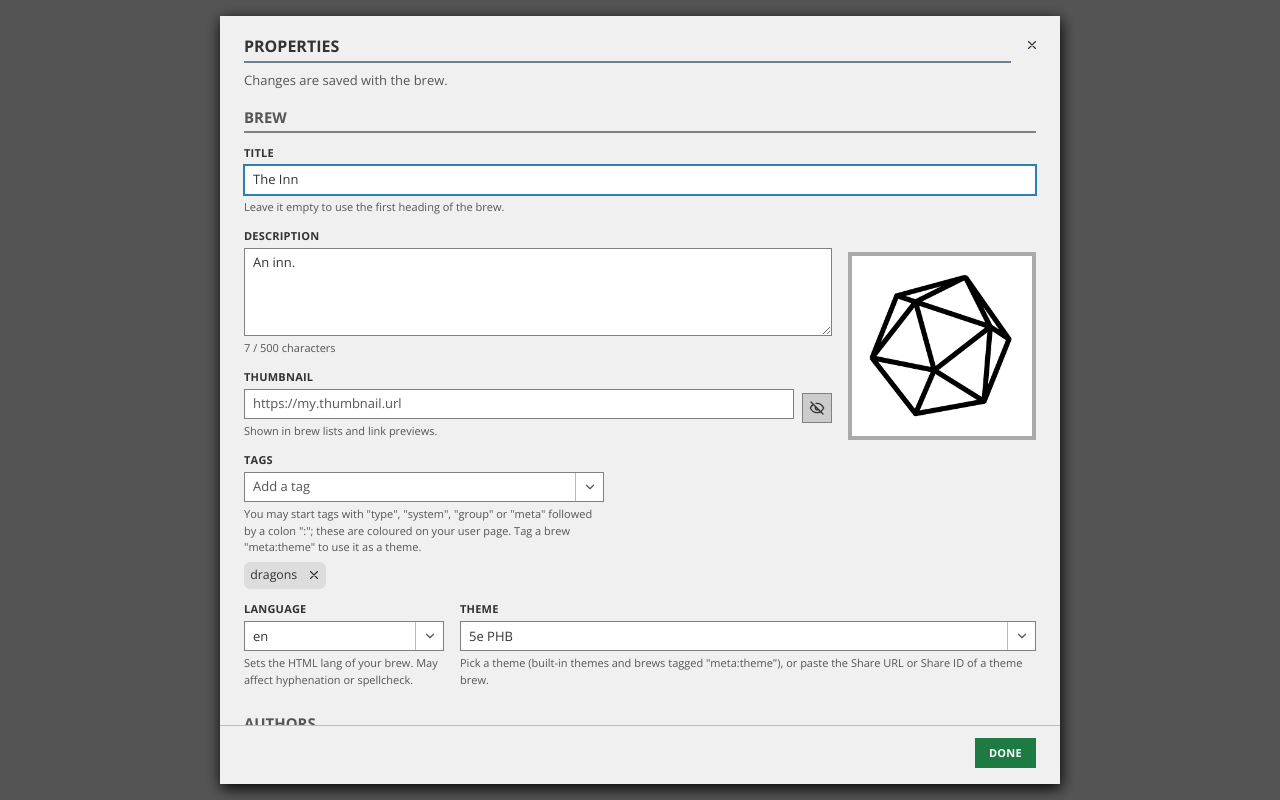
Test: MetadataDialog: every field reports its save payload › theme: the list has static themes and the user themes from the API, grouped
The width and height of the screenshot is (1280, 800).
Expected: the dropdown labelled "Theme" holds "5e PHB", 461,622 -> 1007,650
Step 1. Click the 3rd button named "Show options" → (1021, 636), box 1007,622 -> 1035,650
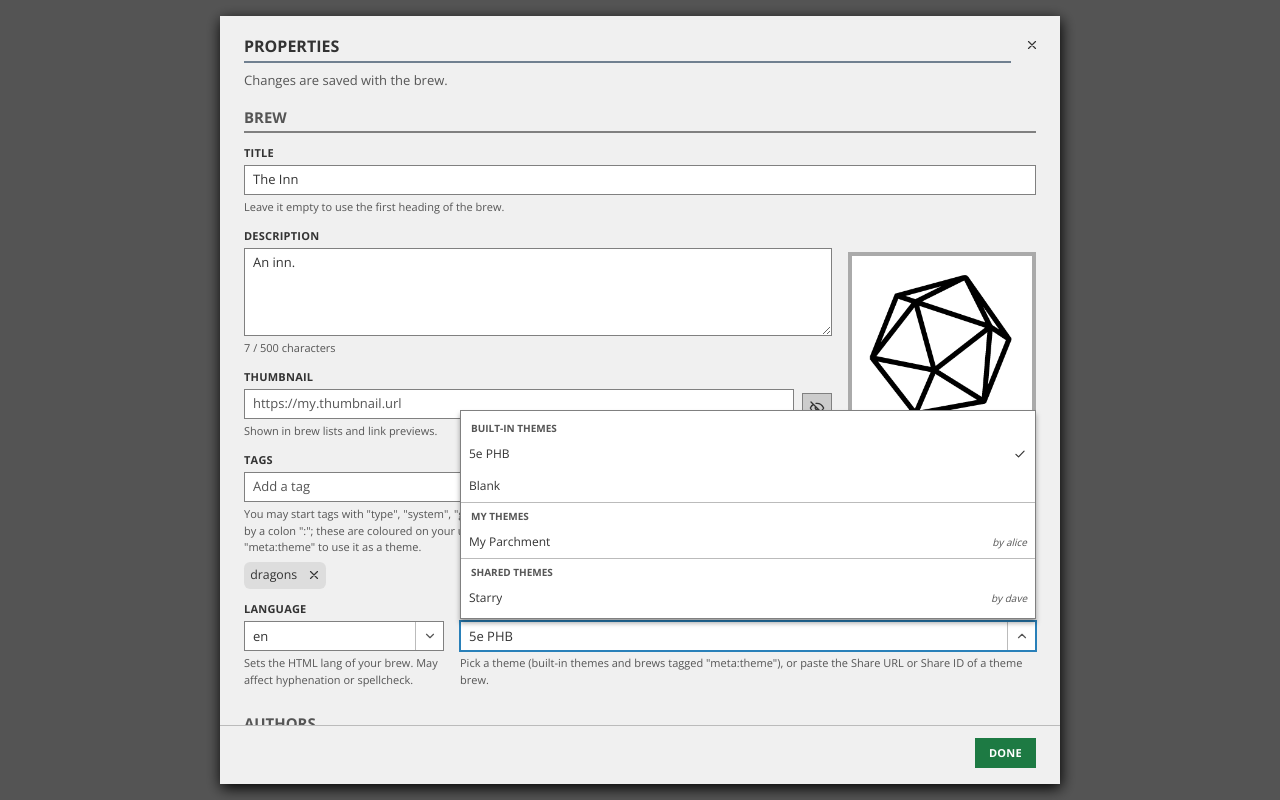
Expected: the option "Starry by dave" is shown, 469,589 -> 1027,606
Step 2. Click the text "My Parchment" → (510, 542), box 469,533 -> 550,551
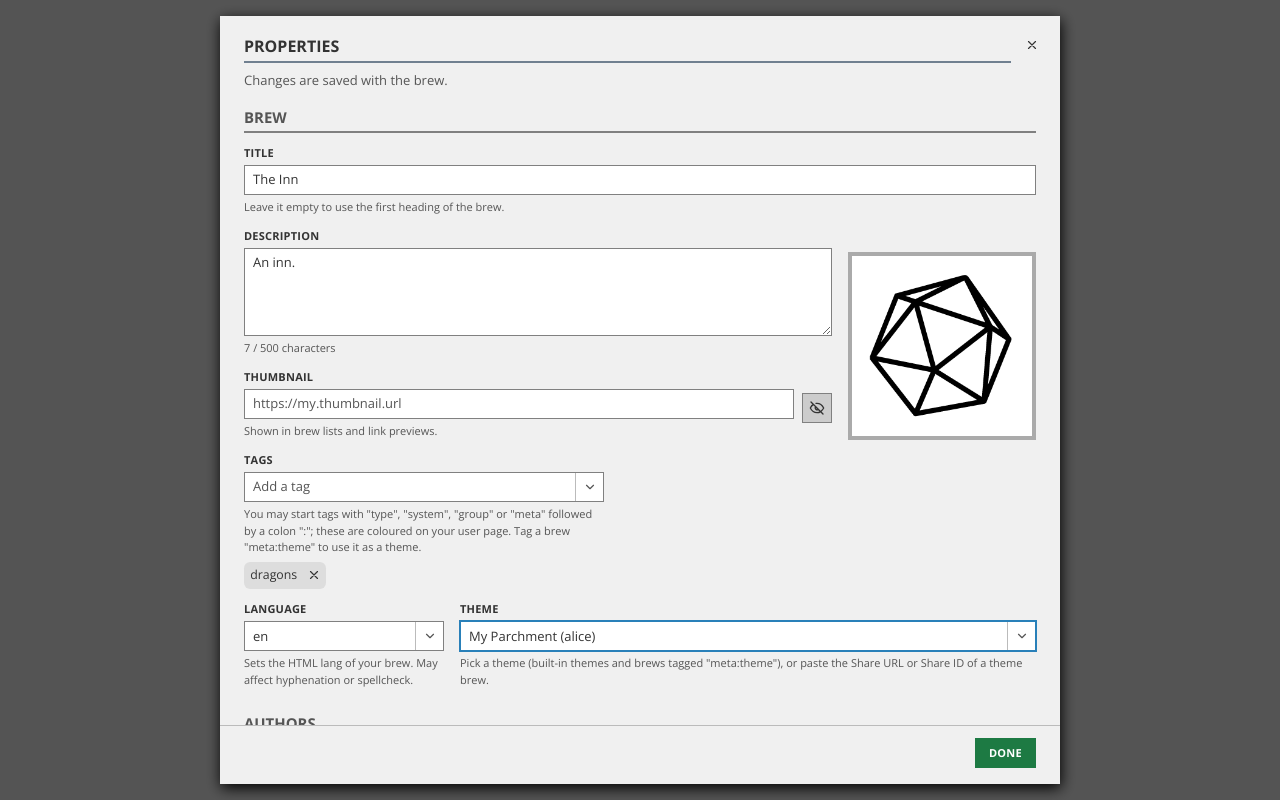
Expected: the dropdown labelled "Theme" holds "My Parchment (alice)", 461,622 -> 1007,650
